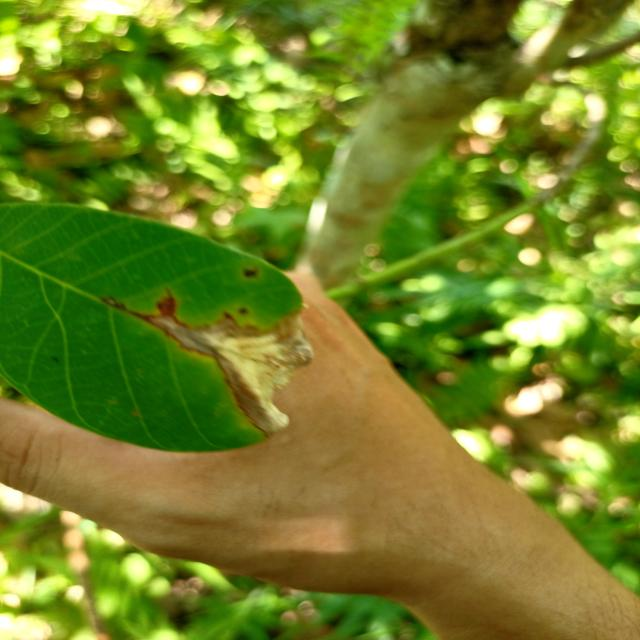Corynespora: (100, 296, 148, 323), (154, 289, 178, 316)
Leaf-Blight: (149, 316, 314, 436)
